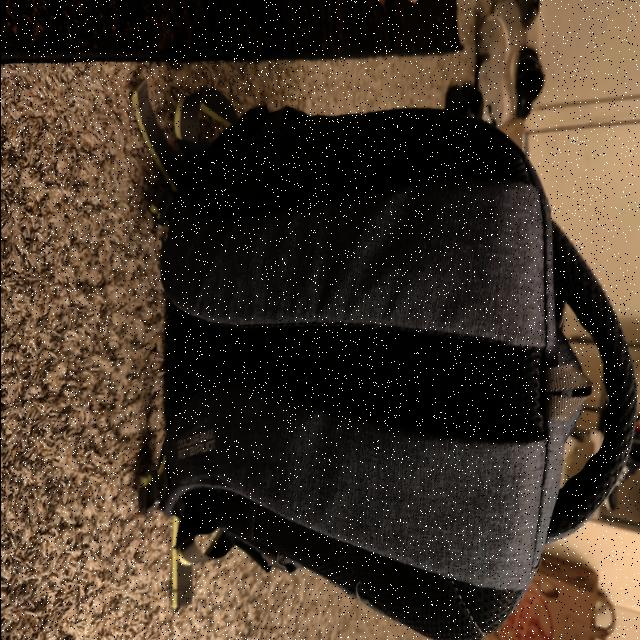bag: (153, 130, 626, 624)
